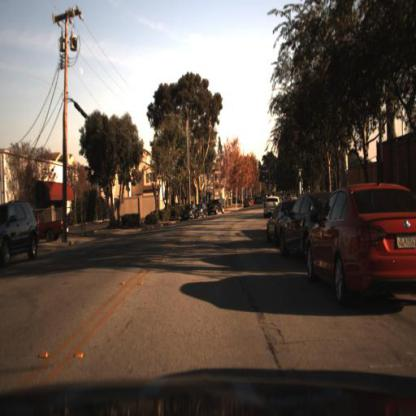car: (306, 180, 416, 304), (275, 191, 312, 267), (0, 200, 40, 262), (38, 205, 72, 246), (266, 201, 285, 250), (204, 196, 230, 222), (179, 199, 199, 224), (262, 196, 278, 222), (197, 199, 208, 219)
